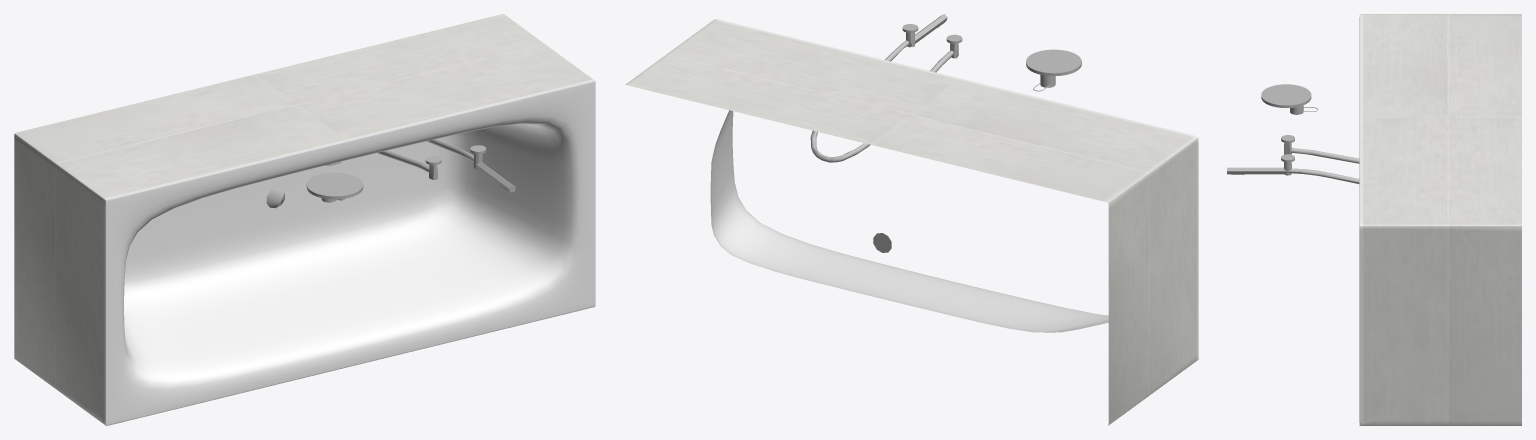
File: bath.gltf
3 renders of one model, left to right at view 1: azimuth 30°, elevation 25°; view 2: azimuth 150°, elevation 25°; view 3: azimuth 270°, elevation 25°, orthographic. The views are drawn at different scales.
Parts seen in each view (by area): view 1: Box01_a07da82249734e7d9f563cfcfc741fa5, Cylinder02_2a1876cdb1764e2b9e6fa82291136ad2, Line02_4c8e10b51915492b84c110b0eb0288c4; view 2: Box01_a07da82249734e7d9f563cfcfc741fa5, Cylinder02_2a1876cdb1764e2b9e6fa82291136ad2, Line02_4c8e10b51915492b84c110b0eb0288c4; view 3: Box01_a07da82249734e7d9f563cfcfc741fa5, Cylinder02_2a1876cdb1764e2b9e6fa82291136ad2, Line02_4c8e10b51915492b84c110b0eb0288c4, Cylinder05_3768aeafc57b49fa84e0b72d3ae3a364.
Part boxes in pixels (left/top/right/bottom): Box01_a07da82249734e7d9f563cfcfc741fa5: left=14, top=14, right=595, bottom=425; Cylinder02_2a1876cdb1764e2b9e6fa82291136ad2: left=306, top=172, right=363, bottom=199; Line02_4c8e10b51915492b84c110b0eb0288c4: left=377, top=139, right=483, bottom=172; Box01_a07da82249734e7d9f563cfcfc741fa5: left=625, top=19, right=1198, bottom=425; Cylinder02_2a1876cdb1764e2b9e6fa82291136ad2: left=1026, top=49, right=1081, bottom=76; Line02_4c8e10b51915492b84c110b0eb0288c4: left=810, top=40, right=953, bottom=162; Box01_a07da82249734e7d9f563cfcfc741fa5: left=1359, top=14, right=1521, bottom=425; Cylinder02_2a1876cdb1764e2b9e6fa82291136ad2: left=1261, top=84, right=1311, bottom=108; Line02_4c8e10b51915492b84c110b0eb0288c4: left=1285, top=148, right=1359, bottom=183; Cylinder05_3768aeafc57b49fa84e0b72d3ae3a364: left=1227, top=167, right=1291, bottom=174.
Bounding box in the file's own units: 1.7 × 0.7501 × 0.9983.
7 materials, 1 textured.
